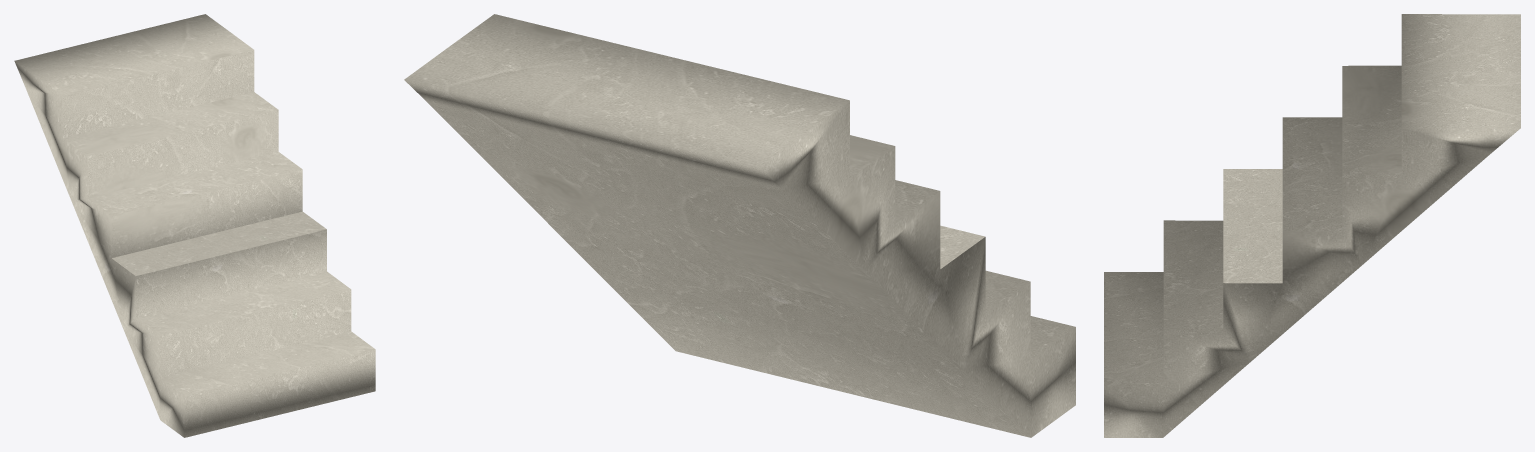
File: 5845e02b-5fc7-4335-8d16-a93cddc73362.glb
3 views of the same model, side by side, from view 1: azimuth 30°, elevation 25°; view 2: azimuth 150°, elevation 25°; view 3: azimuth 270°, elevation 25° (orthographic). The views are drawn at different scales.
Visible parts, largest first — view 1: AlabasterStairs.002; view 2: AlabasterStairs.002; view 3: AlabasterStairs.002.
Part boxes in pixels (x1=…): AlabasterStairs.002: x1=14, y1=14, x2=375, y2=437; AlabasterStairs.002: x1=404, y1=14, x2=1075, y2=437; AlabasterStairs.002: x1=1104, y1=14, x2=1520, y2=437.
Size of what is drawn, in the model's own units: 1.36 by 1.71 by 2.09.
1 material, 1 textured.
